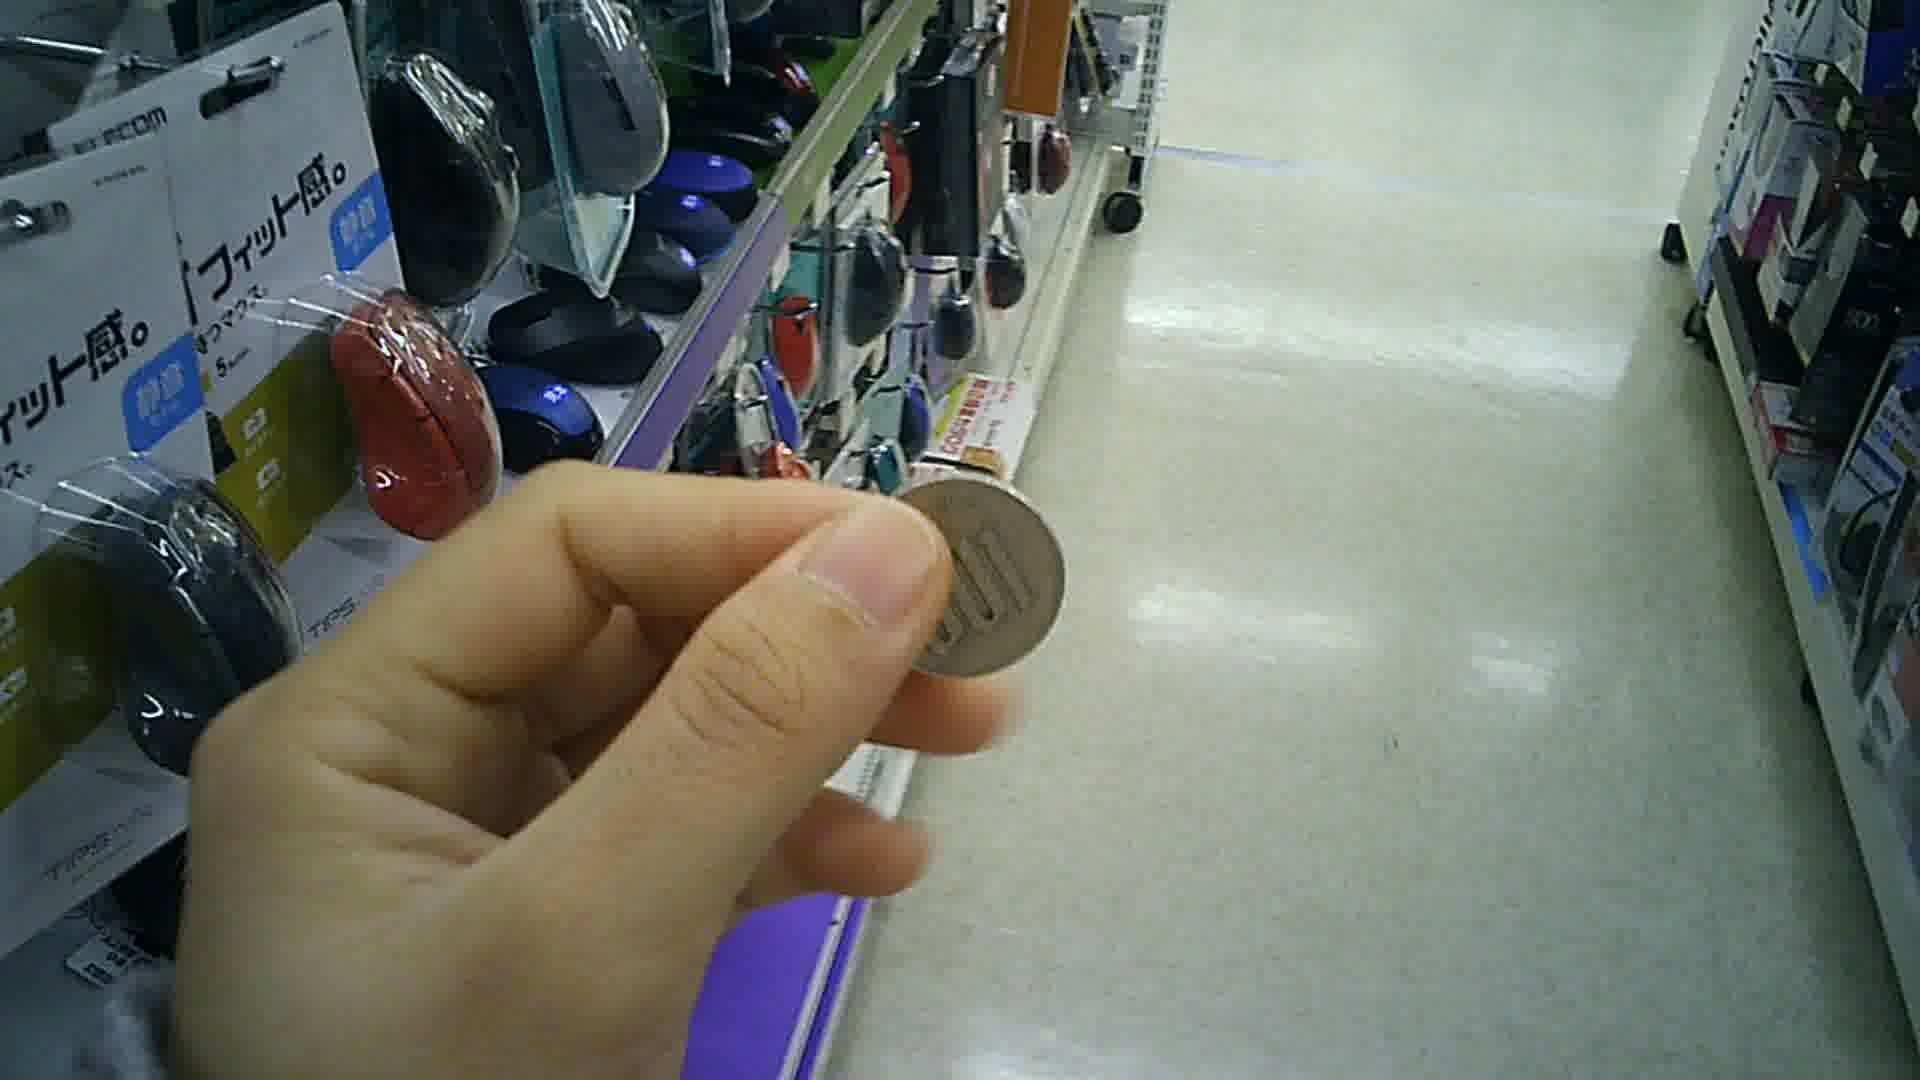100 Yen: (869, 465, 1079, 684)
